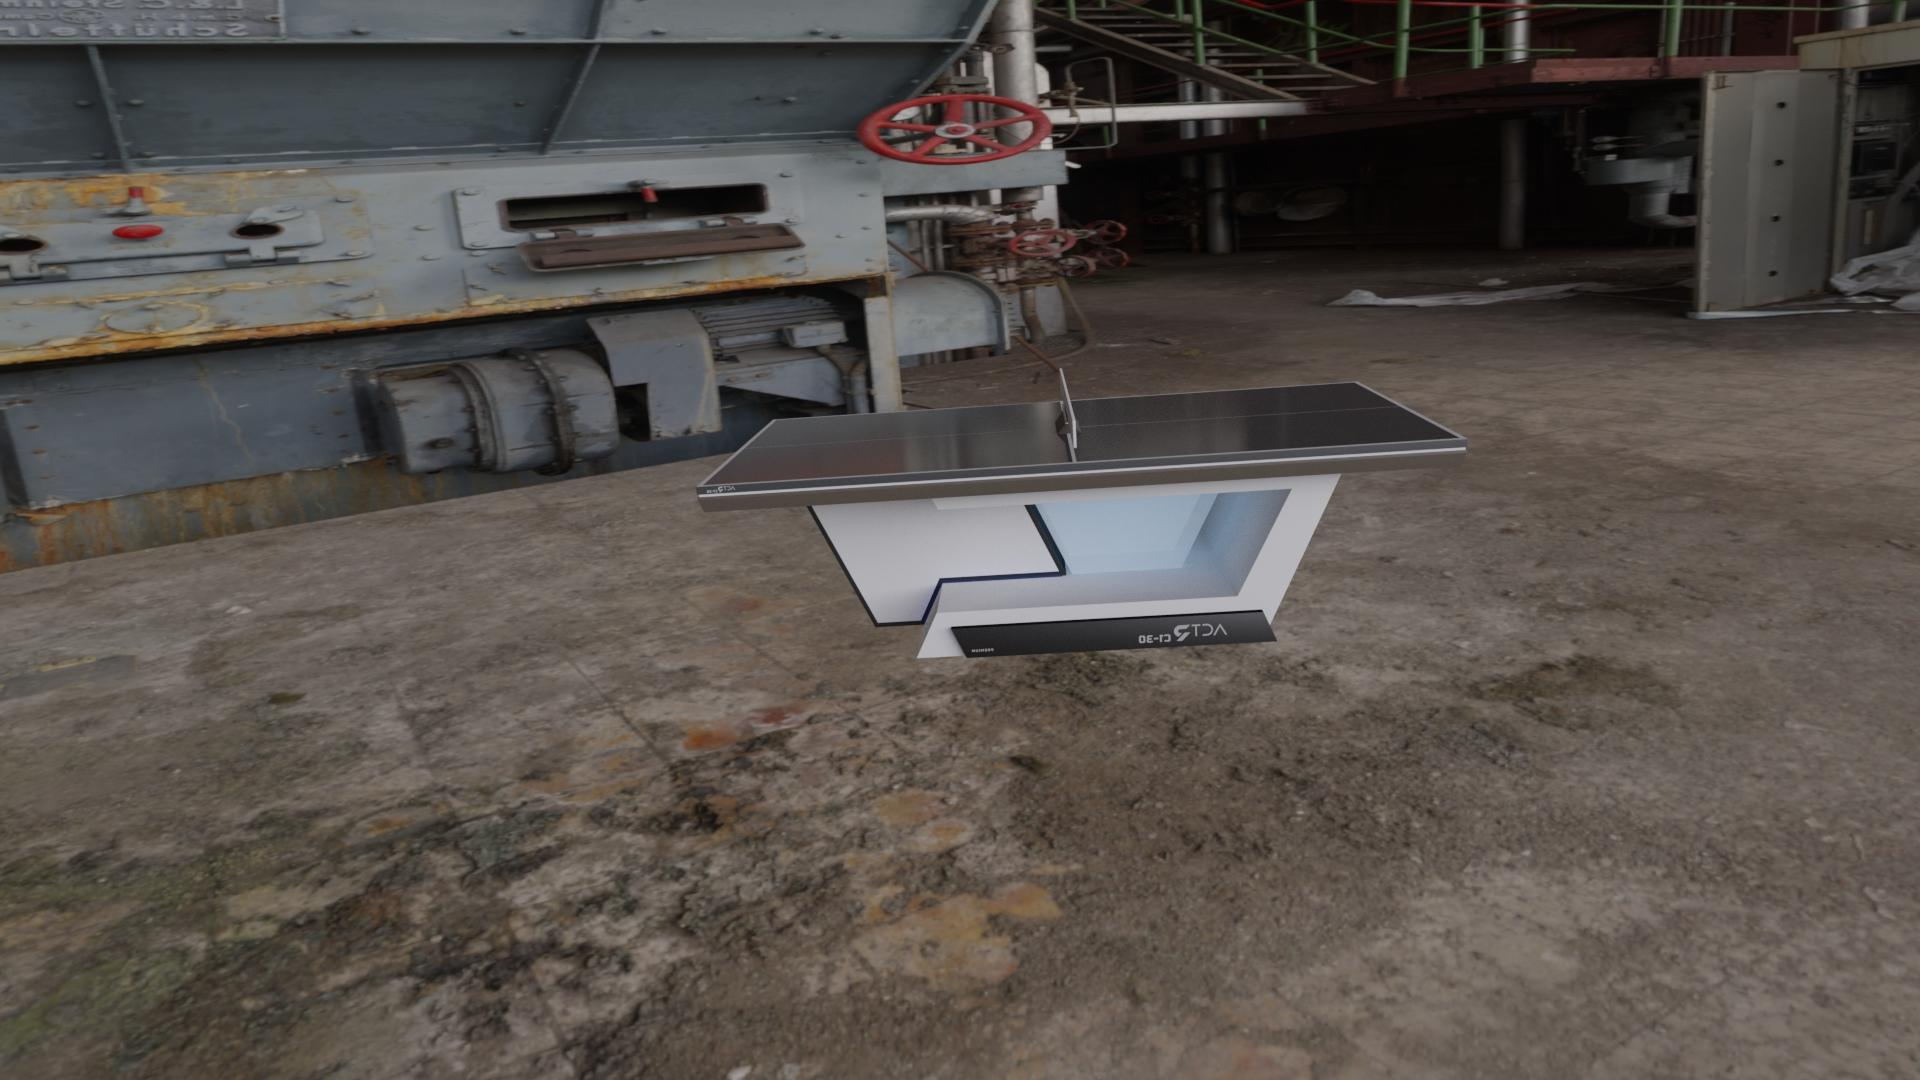table: (703, 382, 1460, 485)
